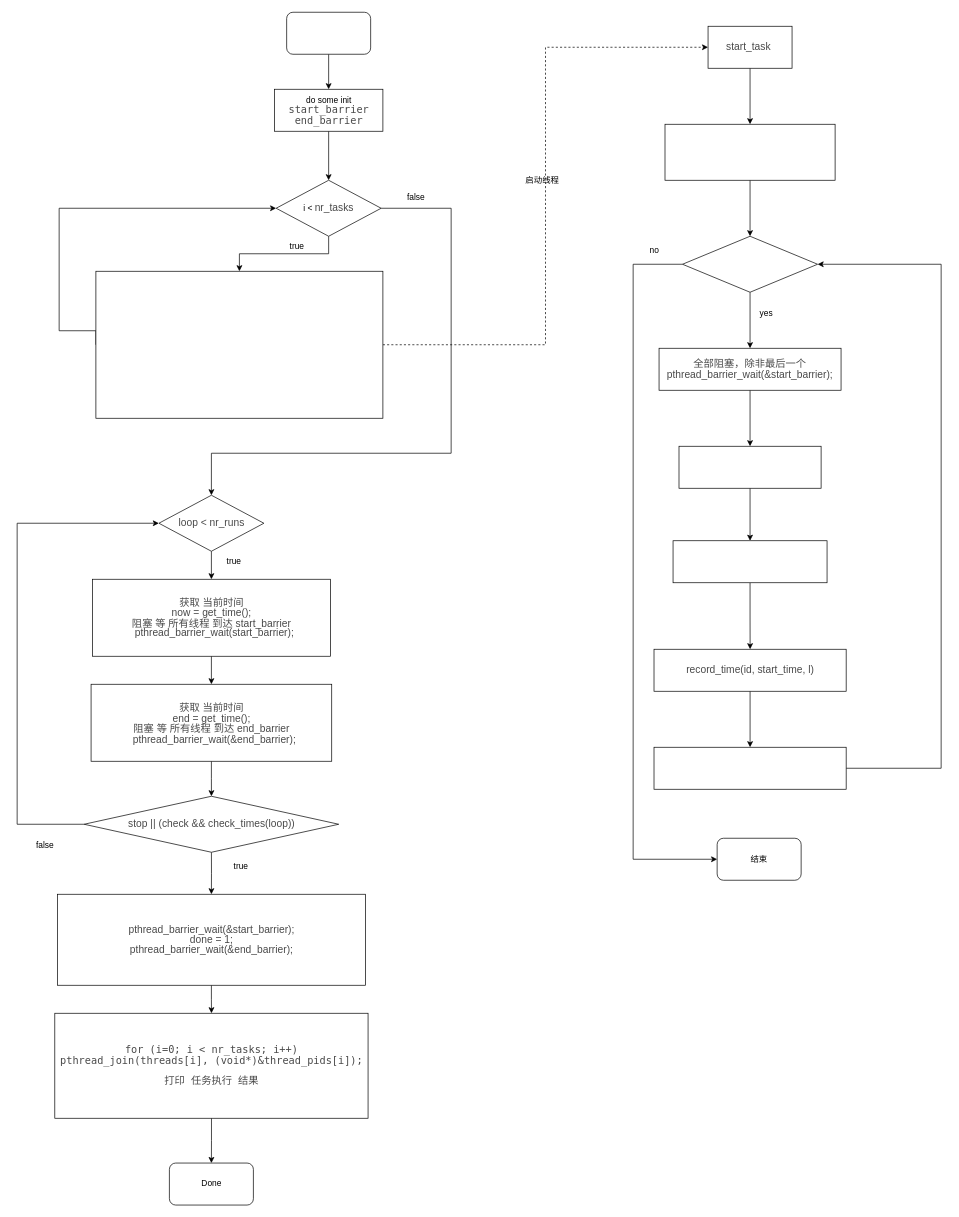
The diagram is 959 pixels wide and 1217 high, and some of its shapes have lost their labels. Each missing label, with the box of its shape:
busy_loop: (672, 540, 827, 583)
main: (286, 12, 371, 54)
参数设置: (664, 124, 835, 180)
执行完，等在这里，等全部完毕 pthread_barrier_wait(&end_barrier): (653, 747, 846, 789)
获取 本线程 开始执行的时间 start_time = get_time();: (678, 446, 821, 488)
设置参数receiver参数 pthread_create( threads [i], start_task ,...): (95, 271, 383, 418)
！ done: (682, 236, 818, 292)
